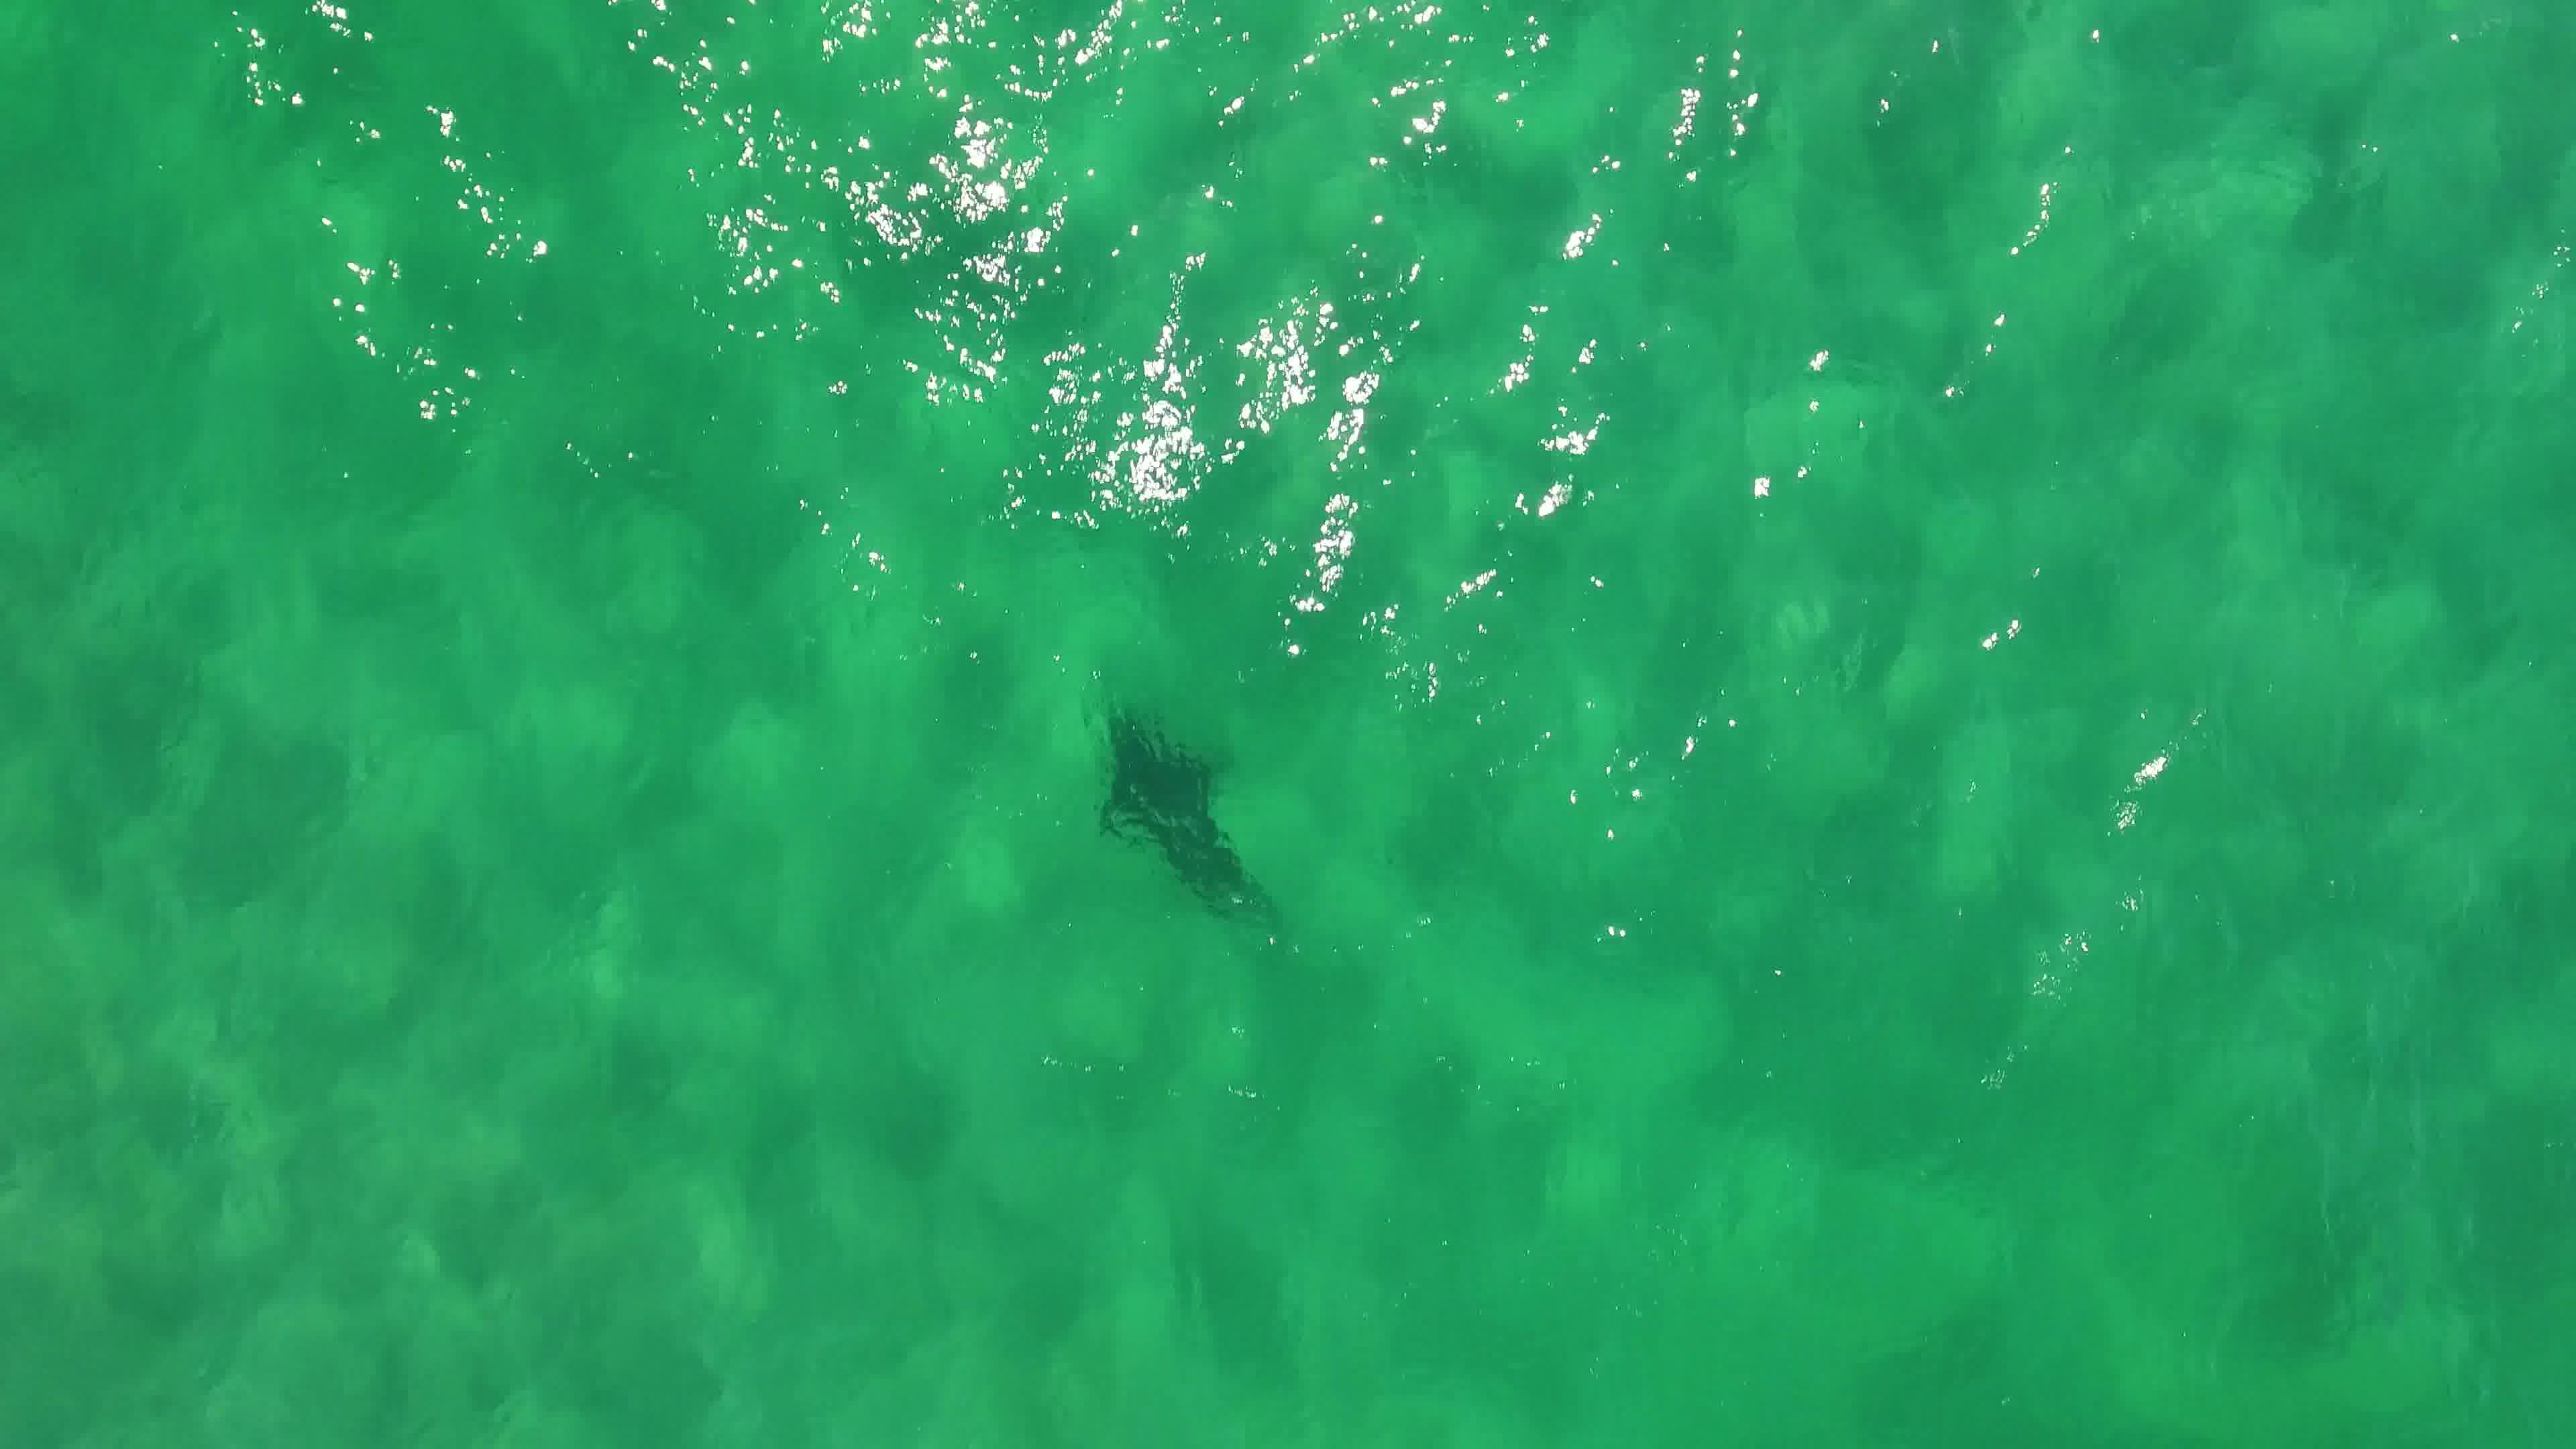shark: (1081, 694, 1297, 938)
